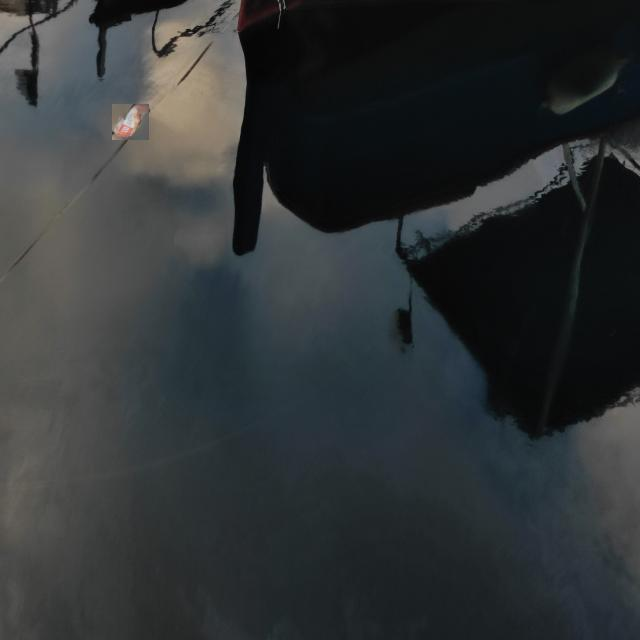Plastic packaging: (112, 104, 149, 140)
